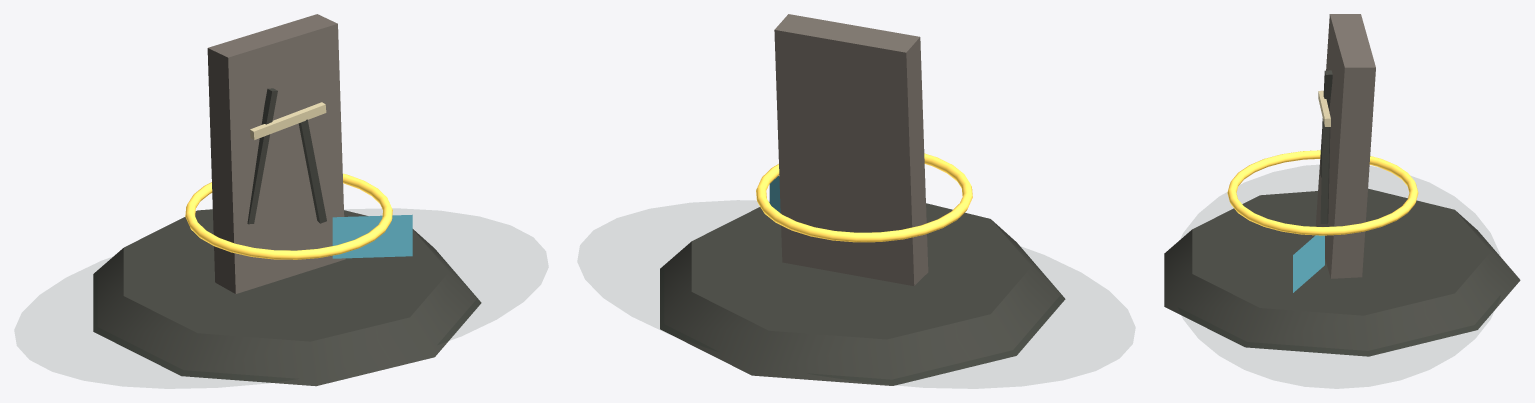
The model's file is dispute_witness_stone.glb.
3 renders of one model, left to right at view 1: azimuth 30°, elevation 25°; view 2: azimuth 150°, elevation 25°; view 3: azimuth 270°, elevation 25°, orthographic. The views are drawn at different scales.
Visible parts, largest first — view 1: witness_flat_plinth, witness_upright_tablet, soft_ground_shadow, witness_evidence_ring, witness_small_offering, witness_split_notch_left, witness_split_notch_right, witness_name_bar; view 2: witness_flat_plinth, witness_upright_tablet, soft_ground_shadow, witness_evidence_ring; view 3: witness_flat_plinth, witness_upright_tablet, soft_ground_shadow, witness_evidence_ring, witness_small_offering, witness_split_notch_right, witness_split_notch_left.
Boxes of the visible parts, x1,y1,x2,y2 form: witness_flat_plinth: [93, 209, 481, 386]; witness_upright_tablet: [207, 14, 345, 293]; soft_ground_shadow: [15, 209, 547, 388]; witness_evidence_ring: [185, 173, 392, 259]; witness_small_offering: [332, 214, 412, 258]; witness_split_notch_left: [247, 88, 277, 224]; witness_split_notch_right: [298, 119, 326, 223]; witness_name_bar: [250, 102, 326, 139]; witness_flat_plinth: [660, 202, 1065, 385]; witness_upright_tablet: [774, 14, 928, 285]; soft_ground_shadow: [578, 200, 1134, 388]; witness_evidence_ring: [756, 153, 972, 242]; witness_flat_plinth: [1164, 188, 1520, 356]; witness_upright_tablet: [1315, 14, 1375, 278]; soft_ground_shadow: [1179, 165, 1499, 388]; witness_evidence_ring: [1227, 150, 1418, 235]; witness_small_offering: [1293, 235, 1324, 292]; witness_split_notch_right: [1320, 119, 1330, 224]; witness_split_notch_left: [1320, 70, 1332, 177].
Bounding box in the file's own units: 3.05 × 1.52 × 2.04.
